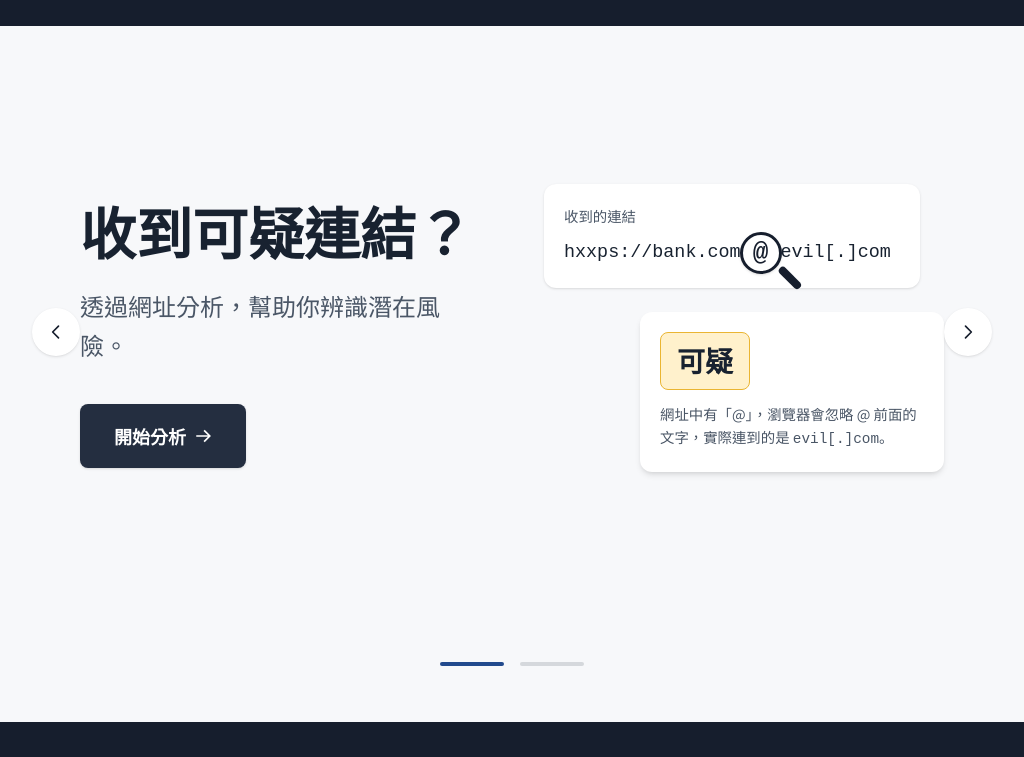
Scenario: 首頁主視覺輪播 › 手機上左右滑動切換
The image size is (1024, 757).
(page scrolled)
Press the mouse on the element named "駭你好" at [512, 374], box [0, 26, 1023, 722]
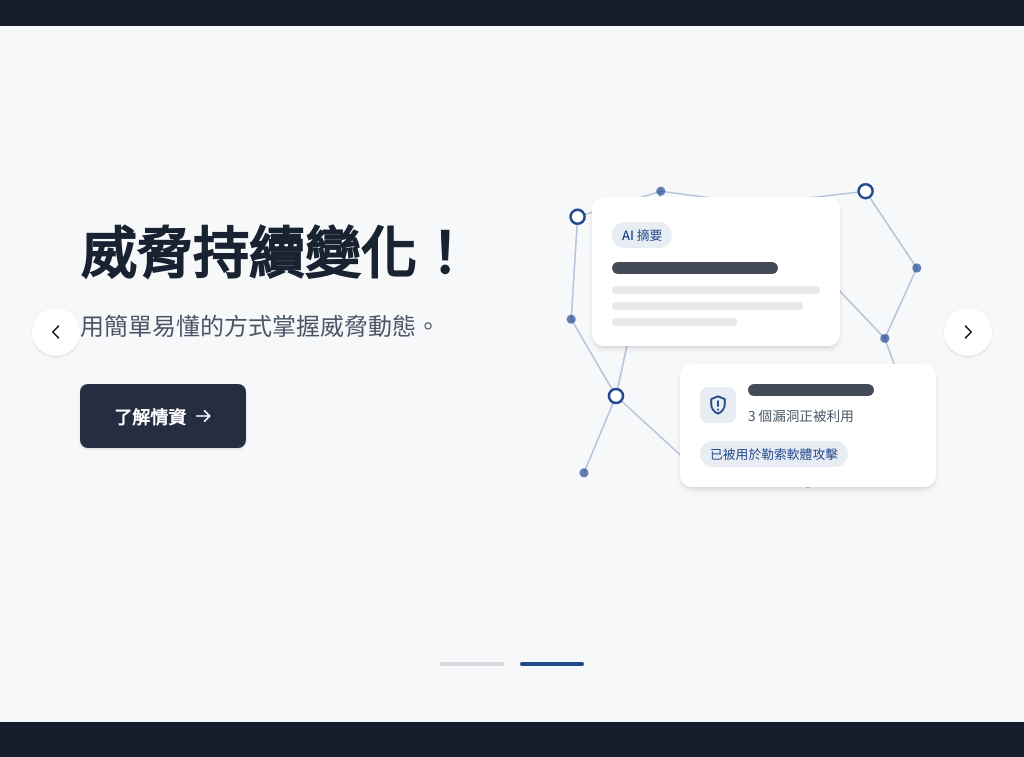
Expected: the text "威脅持續變化！" is shown, [80, 215, 480, 285]
Press the mouse on the element named "駭你好" at [512, 374], box [0, 26, 1023, 722]
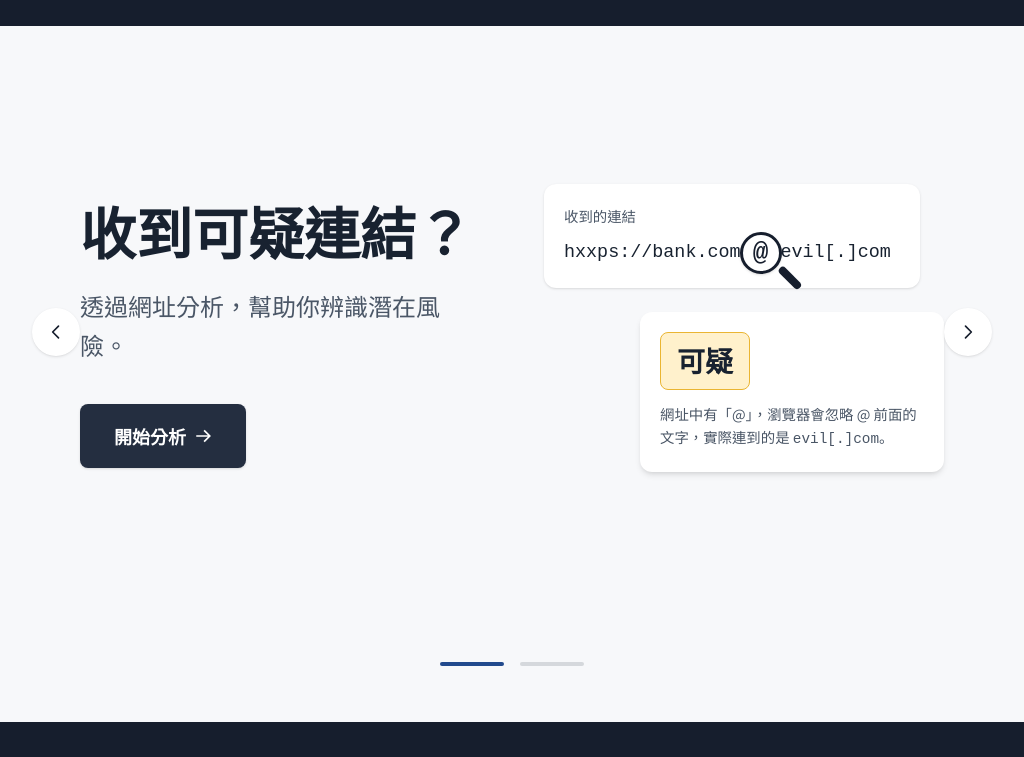
Expected: the text "收到可疑連結？" is shown, [80, 196, 480, 266]
